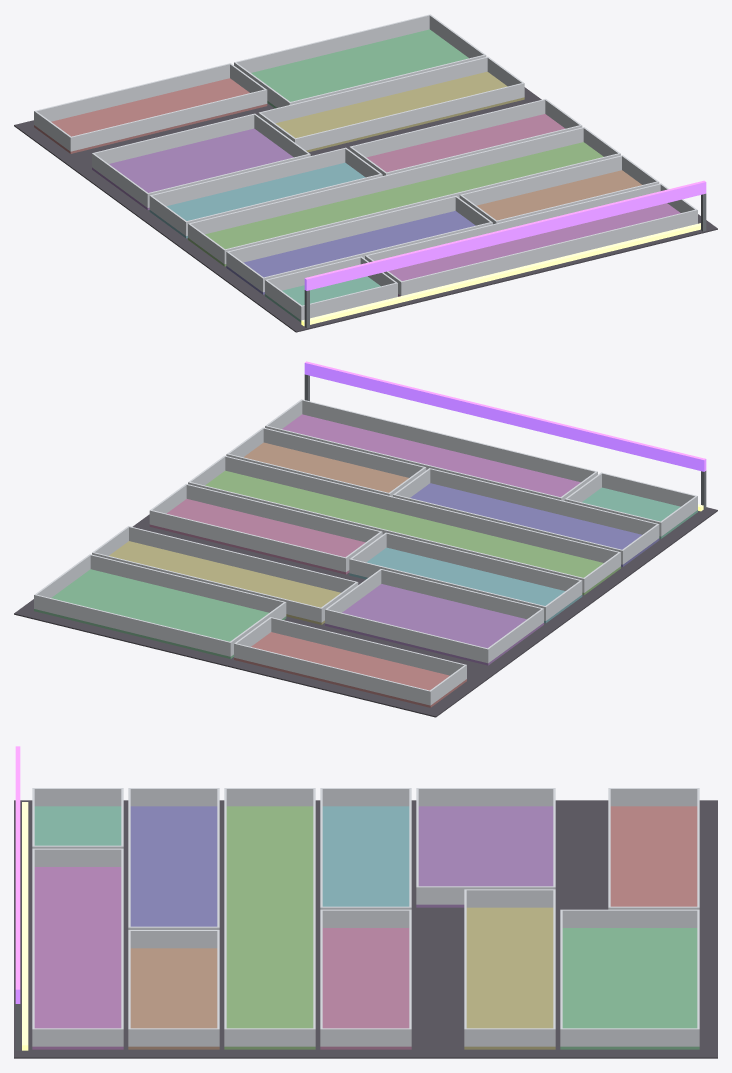
File: hall-transit-vehicle.glb
3 views of the same model, one above another, from view 1: azimuth 30°, elevation 25°; view 2: azimuth 150°, elevation 25°; view 3: azimuth 270°, elevation 25° (orthographic). The views are drawn at different scales.
Parts seen in each view (by area): view 1: Transit Vehicle Technicians; view 2: Transit Vehicle Technicians; view 3: Transit Vehicle Technicians.
Boxes of the visible parts, x1,y1,x2,y2 form: Transit Vehicle Technicians: (14,14,717,332); Transit Vehicle Technicians: (14,361,717,717); Transit Vehicle Technicians: (14,746,717,1058).
Bounding box in the file's own units: 38 × 4.3 × 44.
